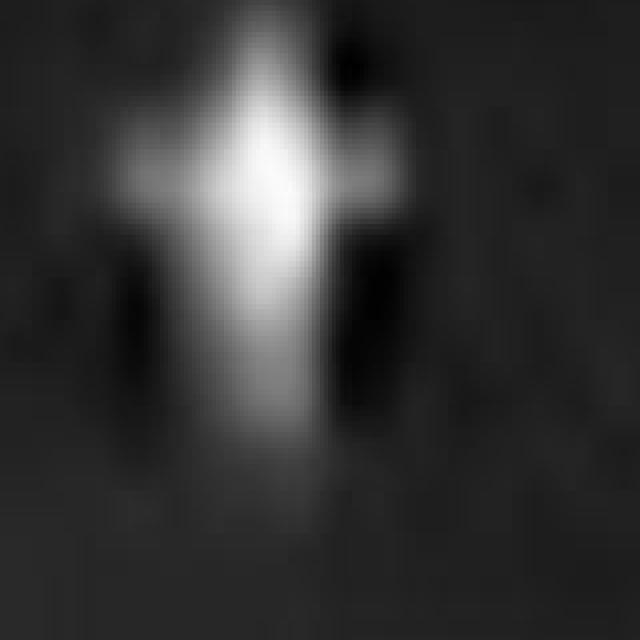person: (136, 14, 383, 433)
